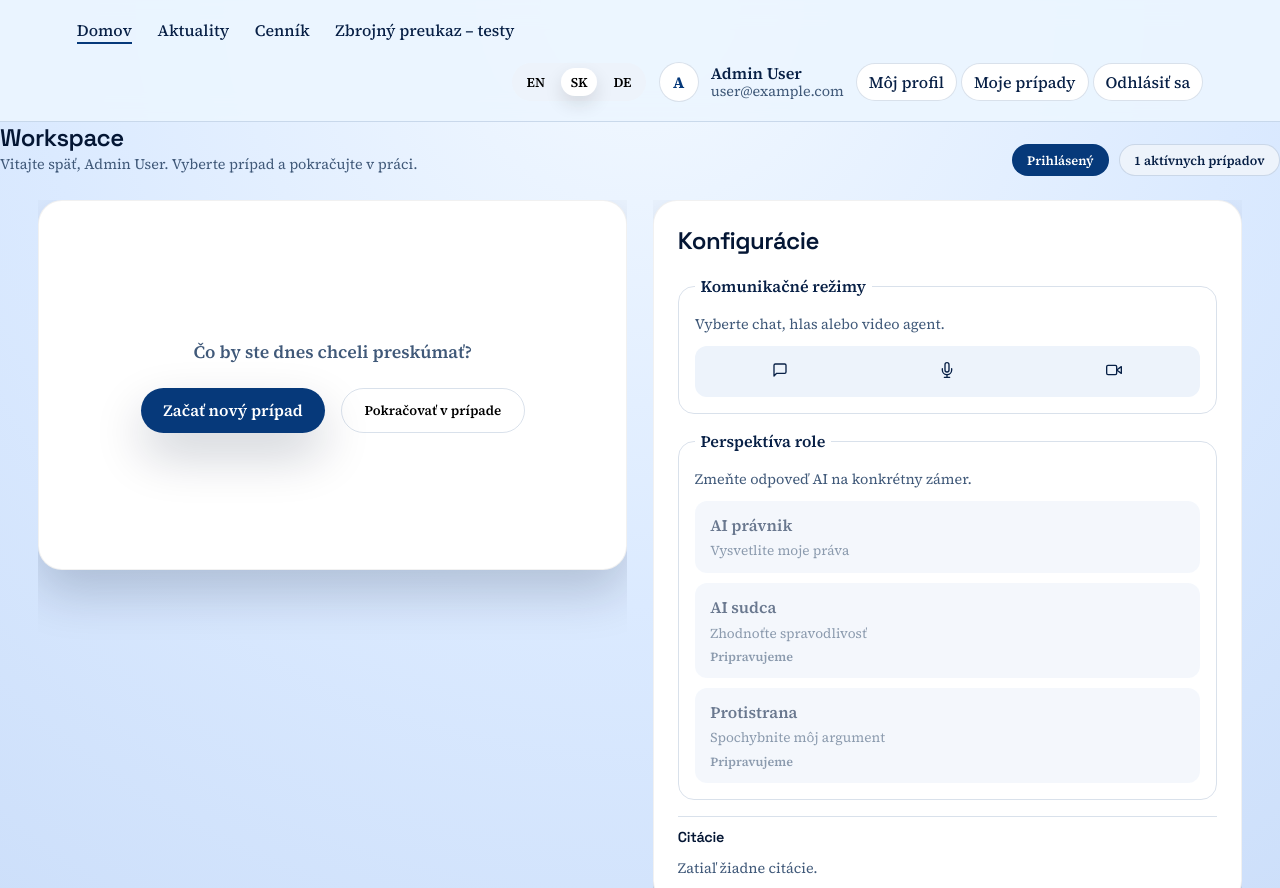
Test: language switching › updates the current page immediately and keeps the selection after route navigation
Expected: the text "Čo by ste dnes chceli preskúmať?" is shown, [193, 338, 472, 366]
Expected: the heading "Konfigurácie" is shown, [678, 225, 819, 256]
Click the button "EN": click(536, 82) [517, 68, 555, 96]
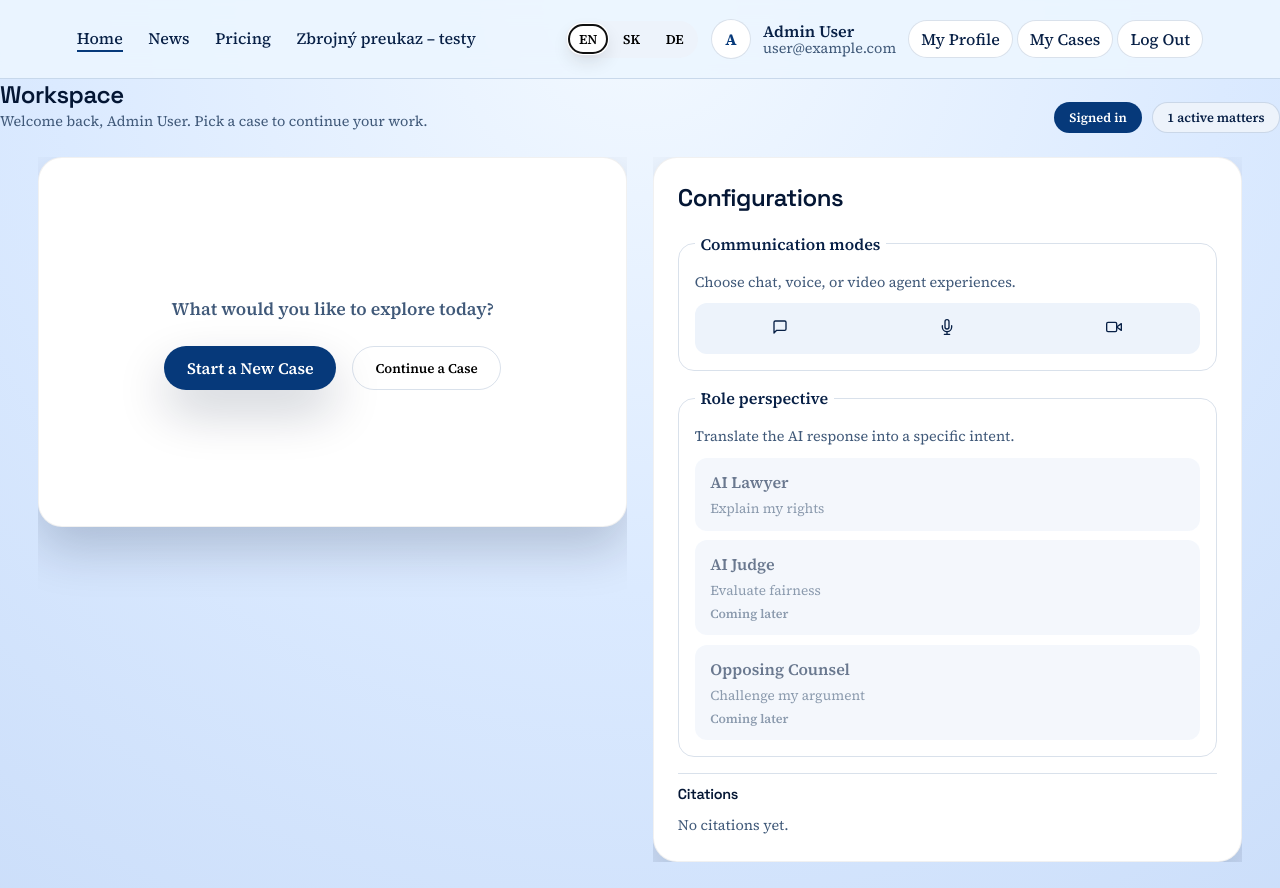
Expected: the text "What would you like to explore today?" is shown, [172, 295, 494, 323]
Expected: the heading "Configurations" is shown, [678, 182, 843, 213]
Click the link "Pricing": click(243, 39) [215, 27, 271, 52]
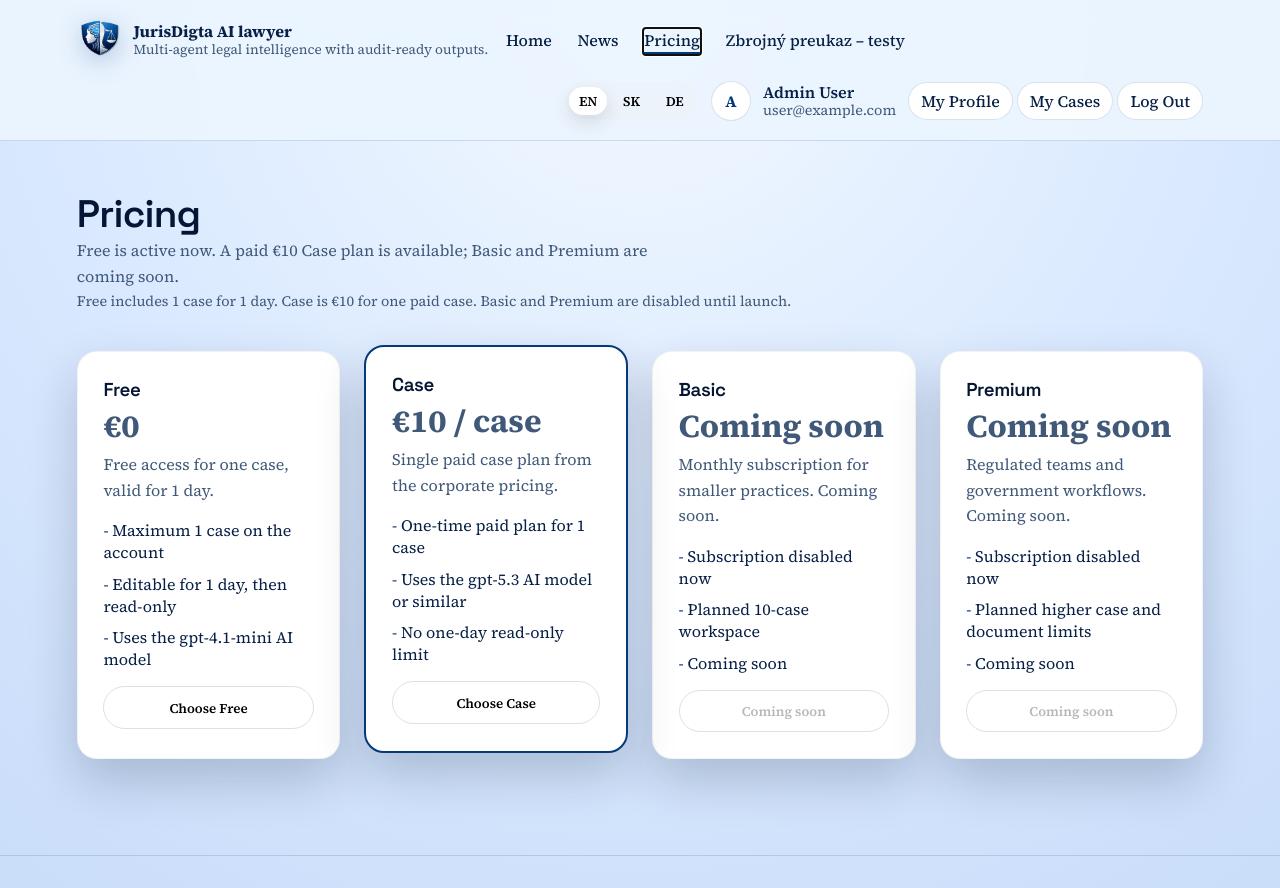
Expected: the text "Free is active now. A paid €10 Case plan is available; Basic and Premium are coming soon." is shown, [77, 239, 648, 287]
Expected: the text "Free access for one case, valid for 1 day." is shown, [103, 452, 314, 503]
Expected: the text "Single paid case plan from the corporate pricing." is shown, [392, 447, 600, 498]
